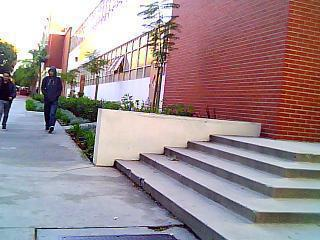Escaleras: (112, 128, 319, 239)
